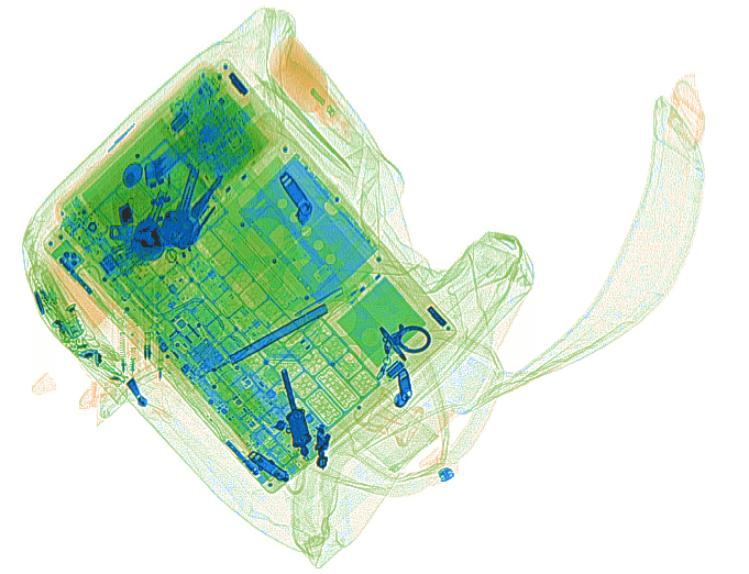plasticBottleWithaNozzle: (266, 33, 364, 147)
